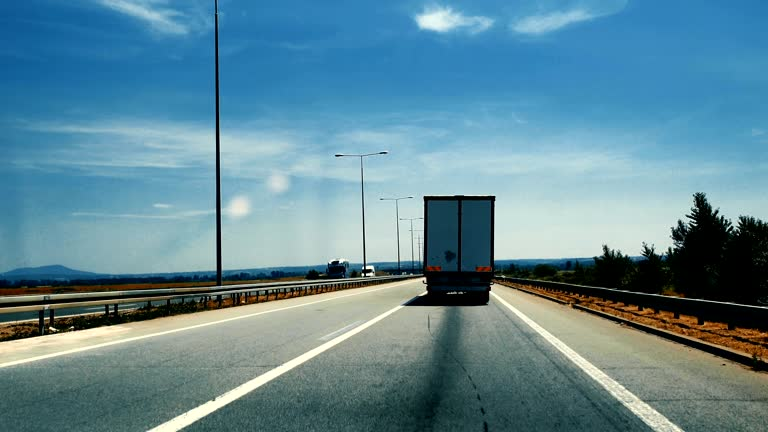Semi: (422, 196, 494, 305)
